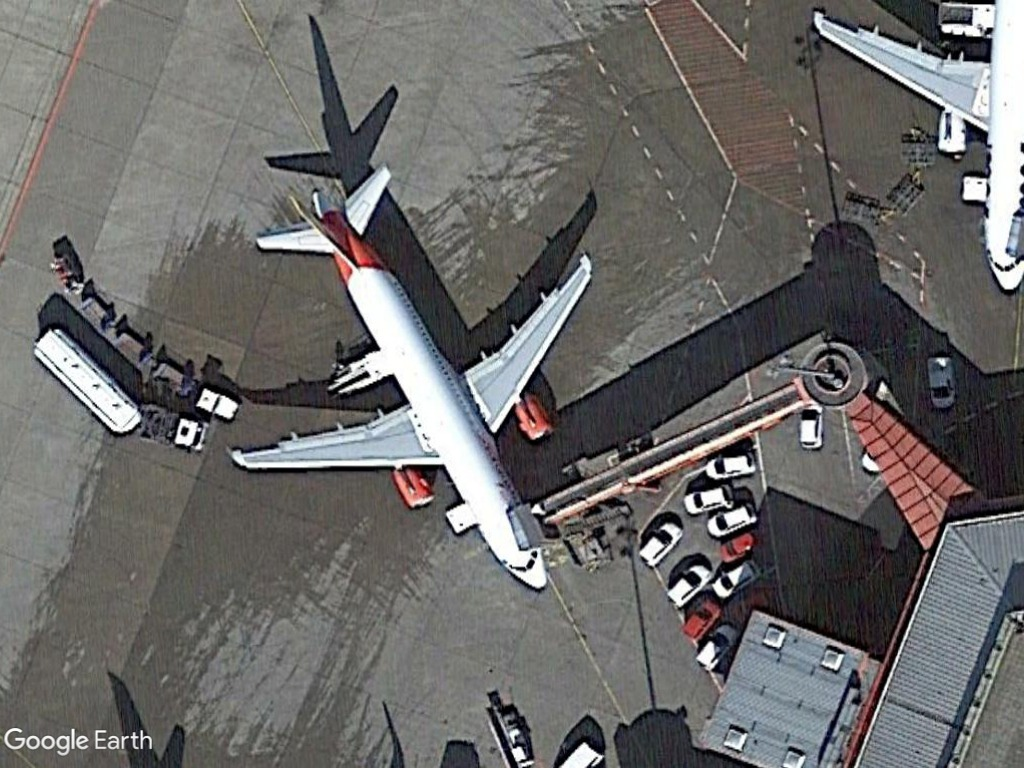airliner: (218, 153, 607, 606)
car: (694, 619, 742, 675), (663, 559, 714, 611), (710, 555, 764, 603), (704, 499, 760, 542), (636, 521, 685, 570), (678, 596, 723, 645), (703, 448, 759, 483), (681, 481, 737, 516), (797, 399, 828, 453)
longvehicle: (28, 327, 147, 441)
van: (925, 351, 961, 414)
